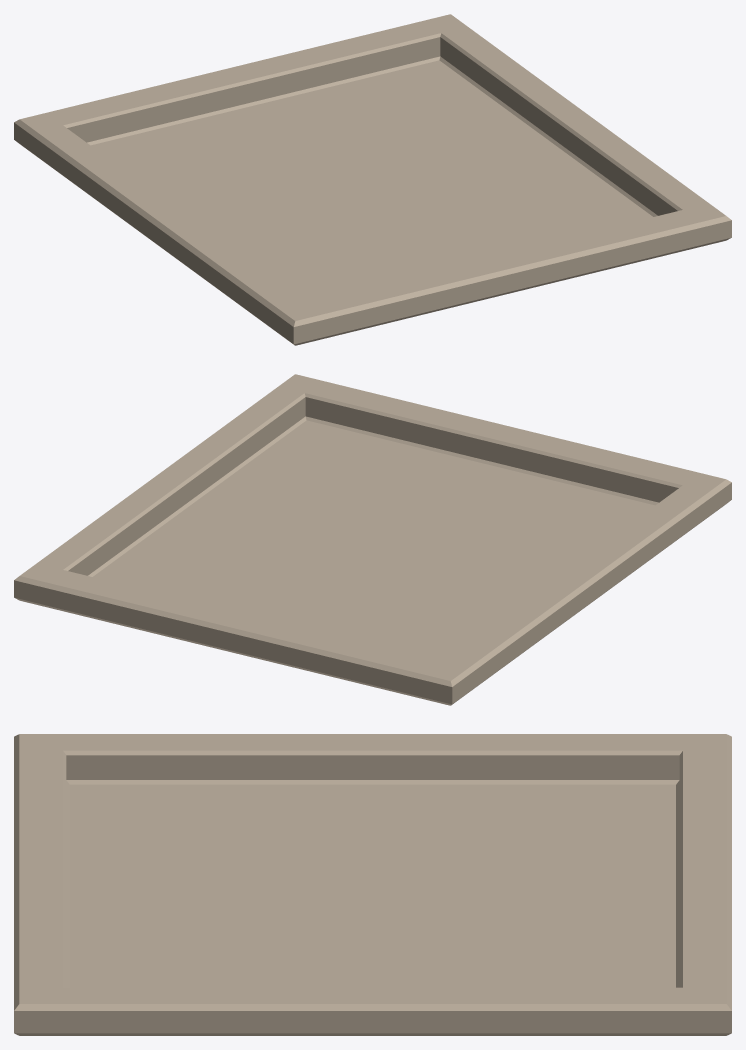
Rendered from fbx_building_1_rooftop.fbx.
3 renders of one model, top to bottom at view 1: azimuth 30°, elevation 25°; view 2: azimuth 150°, elevation 25°; view 3: azimuth 270°, elevation 25°, orthographic. The views are drawn at different scales.
Parts seen in each view (by area): view 1: fbx_building_1_rooftop; view 2: fbx_building_1_rooftop; view 3: fbx_building_1_rooftop.
Part boxes in pixels (<box>): fbx_building_1_rooftop: <box>14,14,731,345</box>; fbx_building_1_rooftop: <box>14,374,731,705</box>; fbx_building_1_rooftop: <box>14,734,731,1035</box>.
Bounding box in the file's own units: 4.74 × 0.2555 × 5.24.
Materials: 1 (1 with a texture image).
